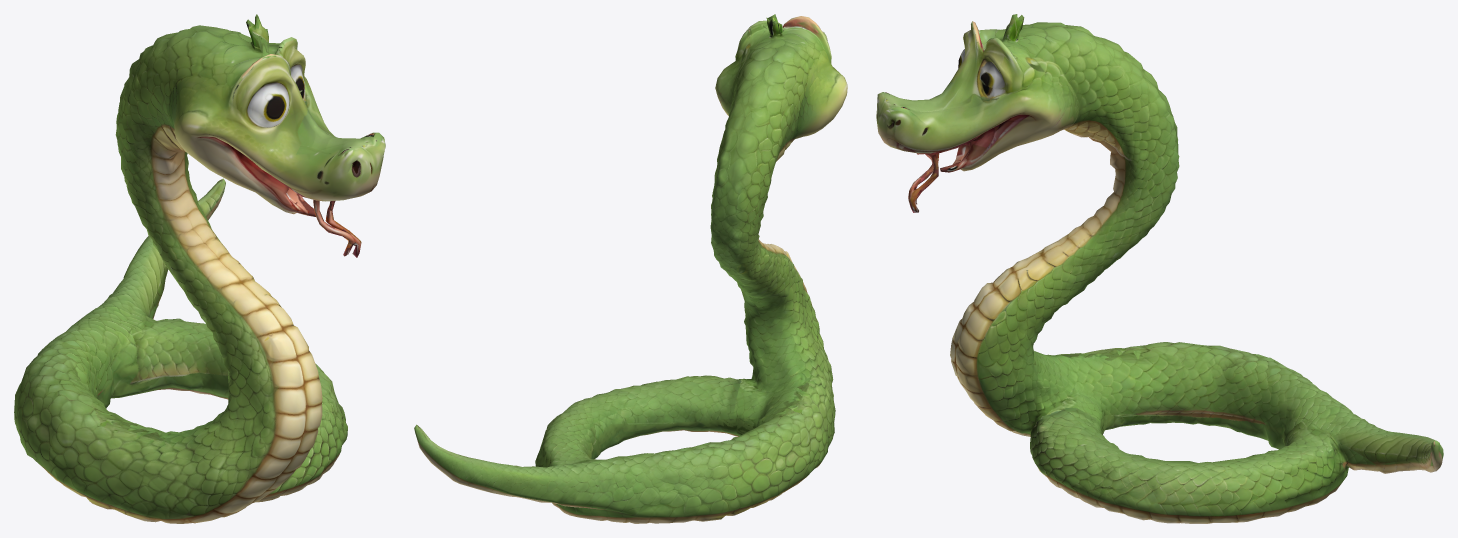
The model's file is snake.glb.
3 views of the same model, side by side, from view 1: azimuth 30°, elevation 25°; view 2: azimuth 150°, elevation 25°; view 3: azimuth 270°, elevation 25° (orthographic). The views are drawn at different scales.
Bounding box in the file's own units: 38958 × 57263 × 65645.
Materials: 1 (1 with a texture image).
